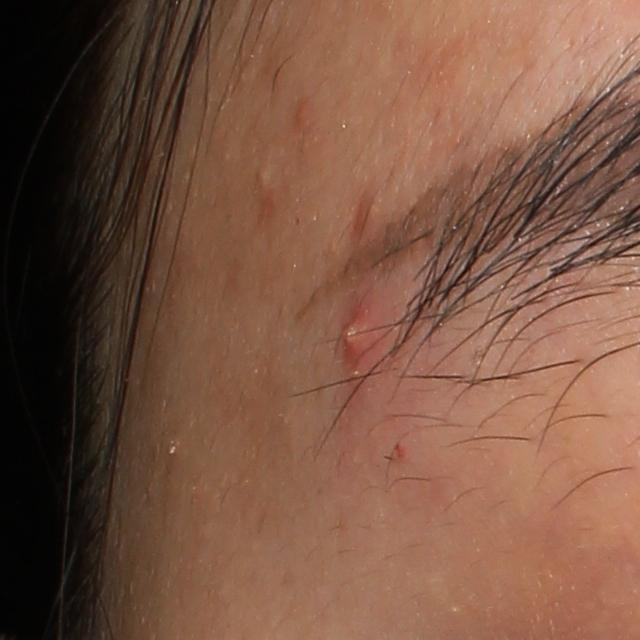comedo: (256, 166, 270, 186)
papule: (292, 98, 311, 126)
